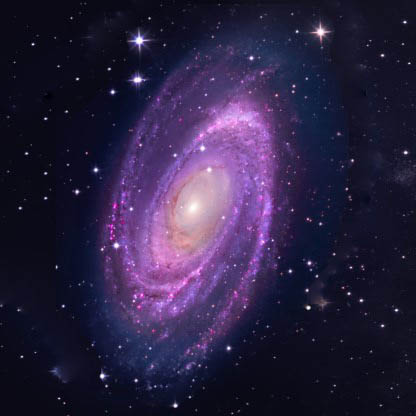Messier 81: (75, 27, 314, 393)
